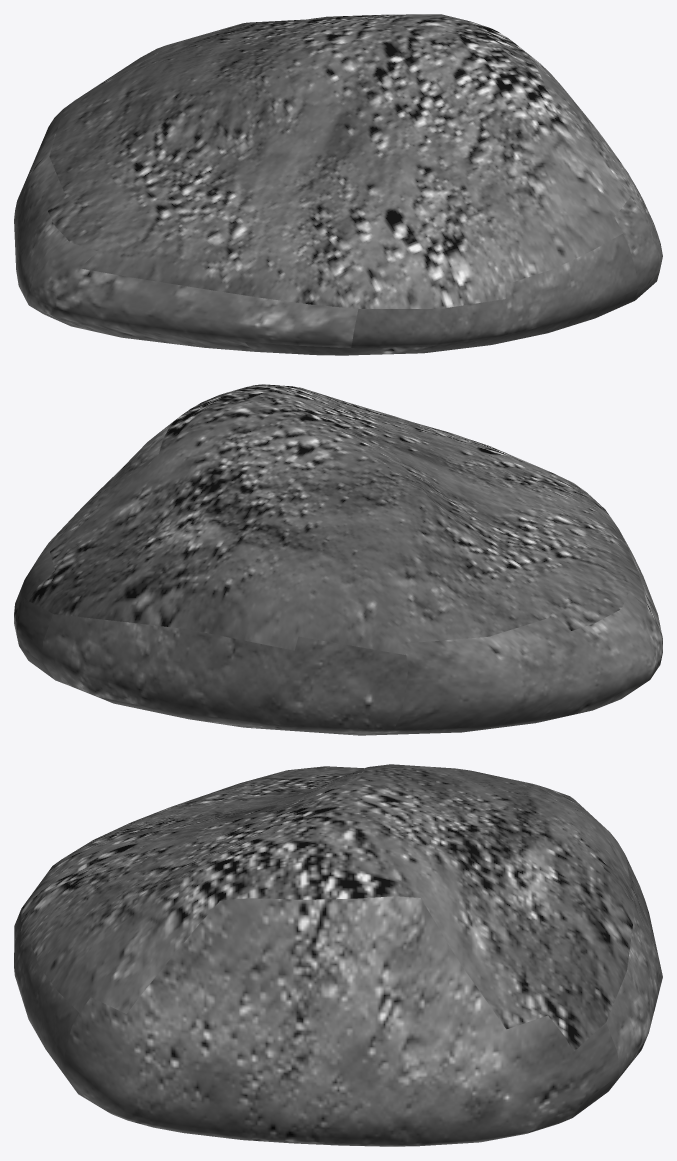
Rendered from Rock3.obj.
3 renders of one model, top to bottom at view 1: azimuth 30°, elevation 25°; view 2: azimuth 150°, elevation 25°; view 3: azimuth 270°, elevation 25°, orthographic. The views are drawn at different scales.
Visible parts, largest first — view 1: Rocks13; view 2: Rocks13; view 3: Rocks13.
Boxes of the visible parts, x1,y1,x2,y2 form: Rocks13: (14,14,662,355); Rocks13: (14,384,662,735); Rocks13: (14,764,662,1146).
Size of the model in its own units: 0.8025 by 0.3194 by 0.7219.
Materials: 1 (1 with a texture image).
